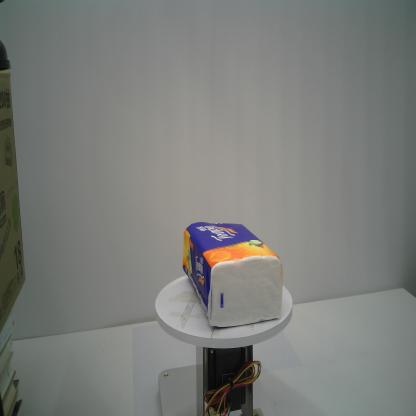Tissue: (181, 219, 285, 331)
